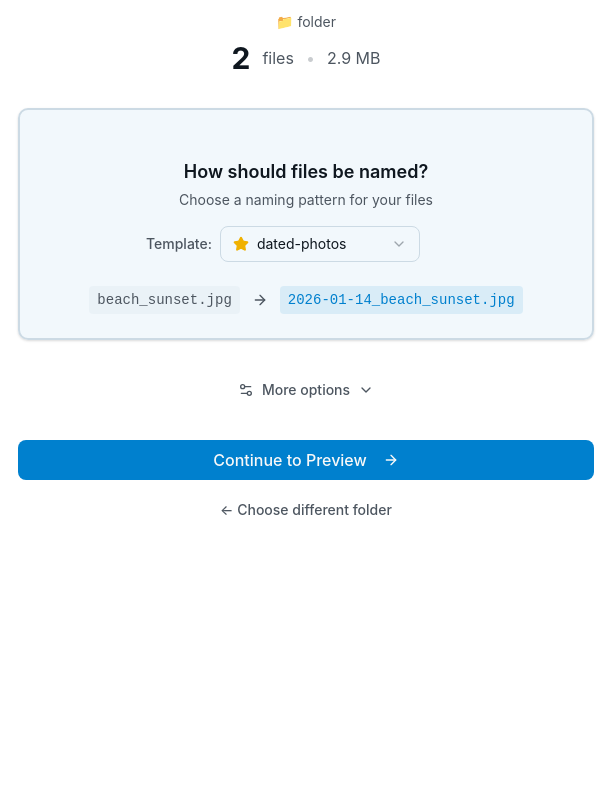
Scenario: ConfigureStep › options section › should expand options when clicking More options
Click the button "More options" at (306, 390), box [18,372,594,408]
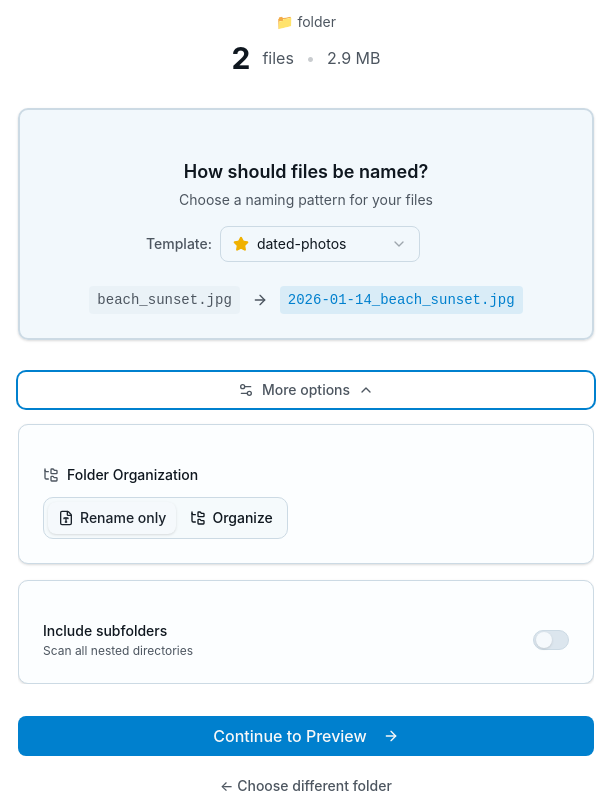
Check: the switch named "Include subfolders in scan" is shown, box [533,630,569,650]
